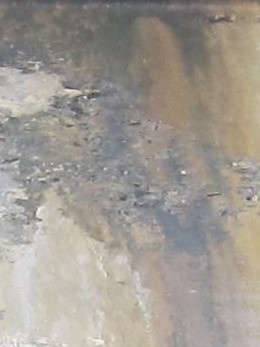Corrosion: (1, 1, 260, 255)
